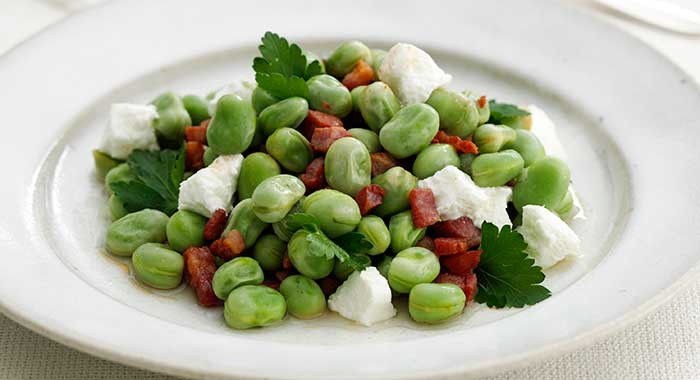boiled peas: (136, 63, 552, 320)
